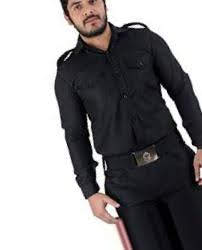uniform: (57, 24, 198, 235)
